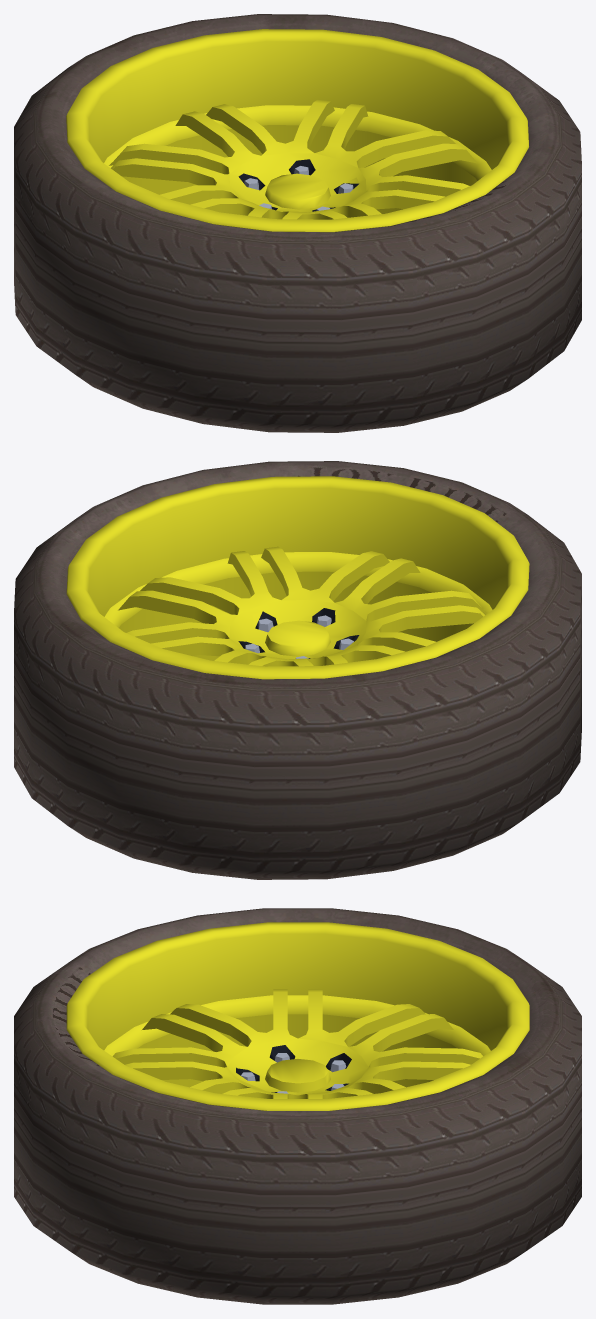
File: kart_backwheel.obj
3 views of the same model, one above another, from view 1: azimuth 30°, elevation 25°; view 2: azimuth 150°, elevation 25°; view 3: azimuth 270°, elevation 25° (orthographic). The views are drawn at different scales.
Parts seen in each view (by area): view 1: kart_backwheel; view 2: kart_backwheel; view 3: kart_backwheel.
Part boxes in pixels (<box>): kart_backwheel: <box>14,14,581,432</box>; kart_backwheel: <box>14,461,581,879</box>; kart_backwheel: <box>14,908,581,1304</box>.
Bounding box in the file's own units: 0.2118 × 0.0819 × 0.2226.
Materials: 3 (3 with a texture image).
